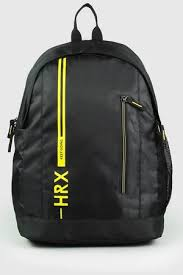backpack: (7, 2, 173, 246)
